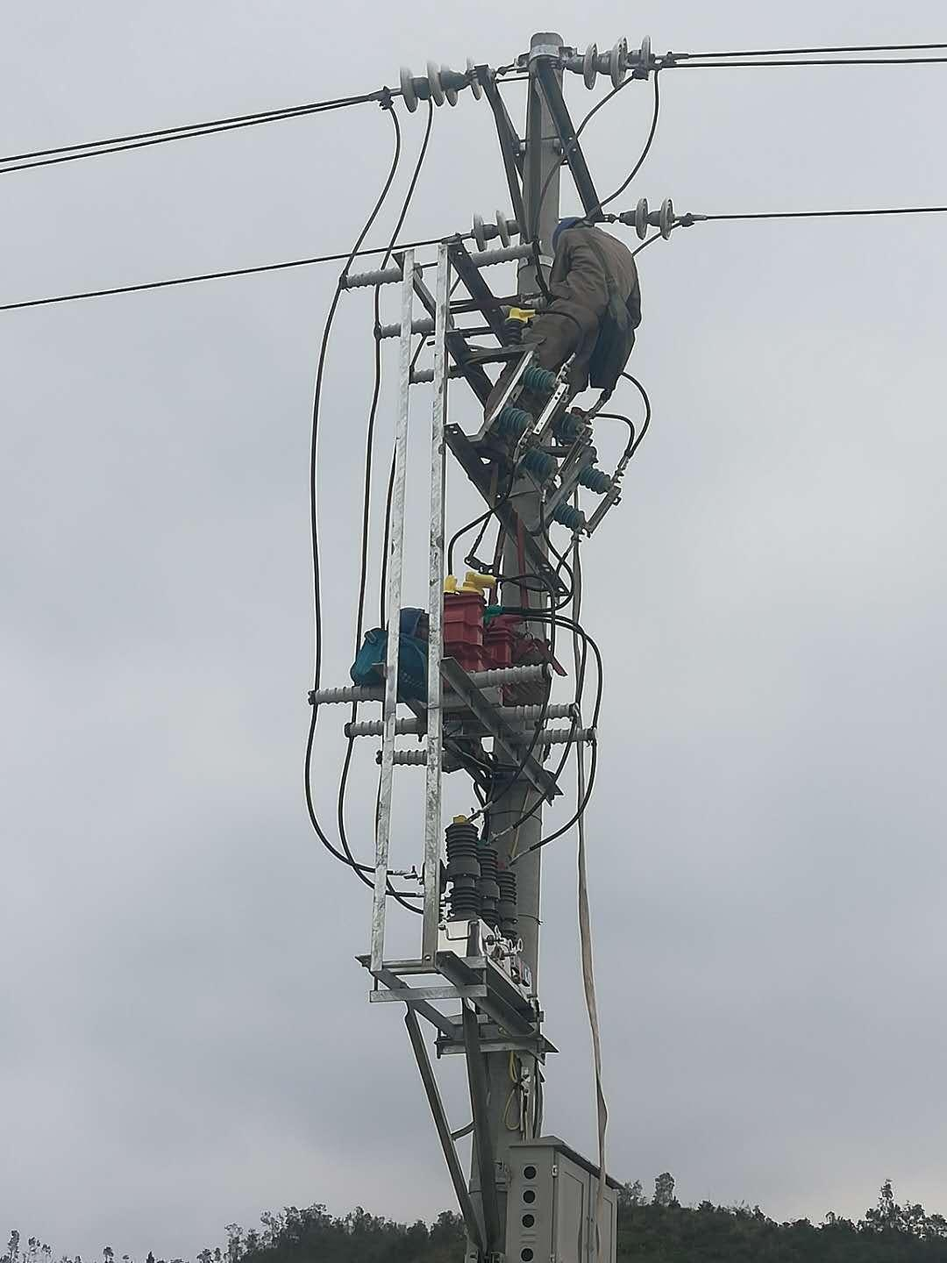未系安全绳的工作人员: (482, 216, 642, 431)
